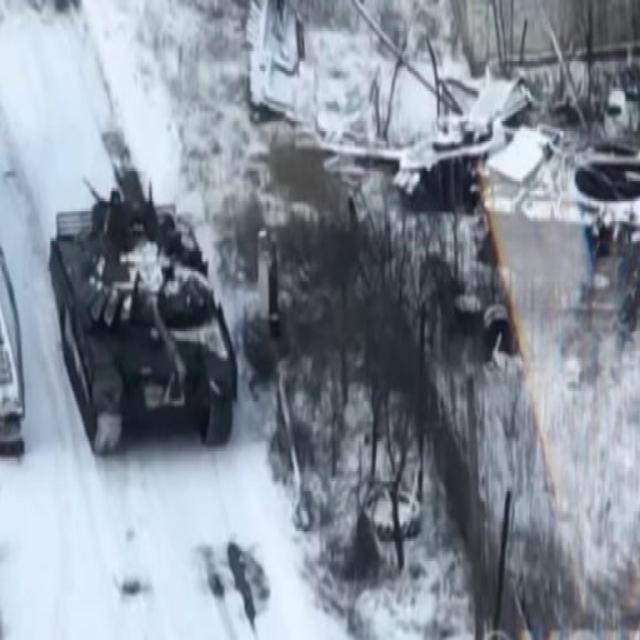TANK: (43, 167, 245, 462)
